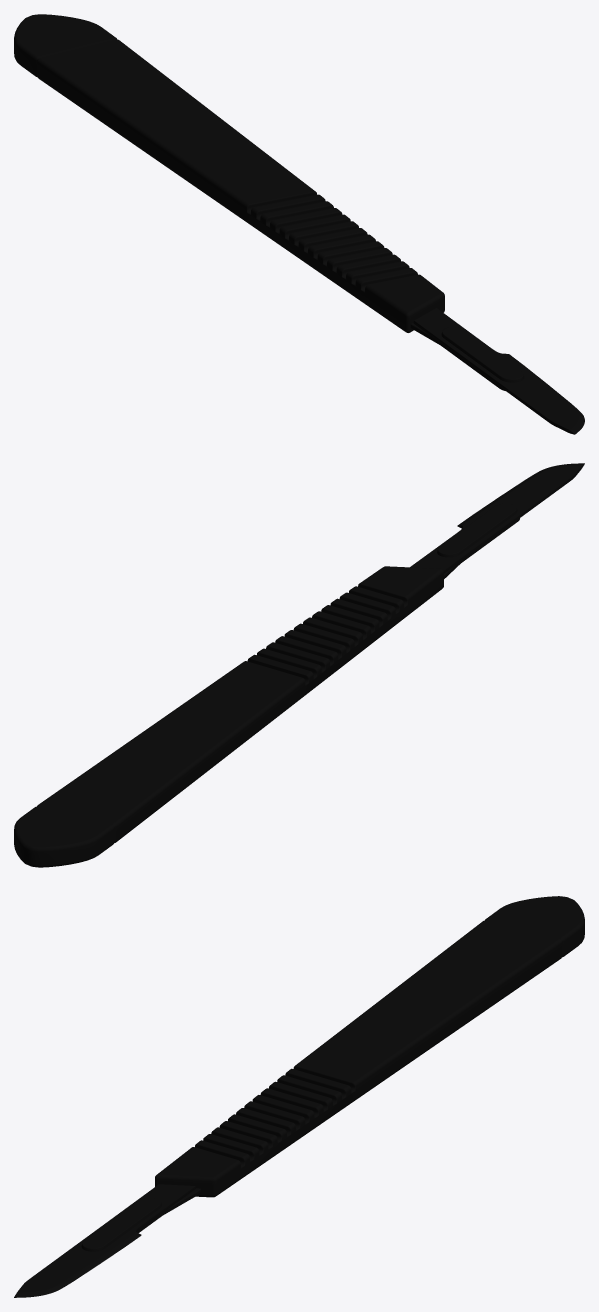
Rendered from Scalpel.glb.
The picture shows the model from 3 angles, top to bottom: view 1: azimuth 30°, elevation 25°; view 2: azimuth 150°, elevation 25°; view 3: azimuth 330°, elevation 25°; orthographic projection. The views are drawn at different scales.
Visible parts, largest first — view 1: scalpel.1; view 2: scalpel.1; view 3: scalpel.1.
Boxes of the visible parts, x1,y1,x2,y2 form: scalpel.1: [14, 14, 584, 434]; scalpel.1: [14, 463, 584, 867]; scalpel.1: [14, 896, 584, 1297].
Size of the model in its own units: 0.0232 by 0.00564 by 0.2711.
Materials: 1 (1 with a texture image).
